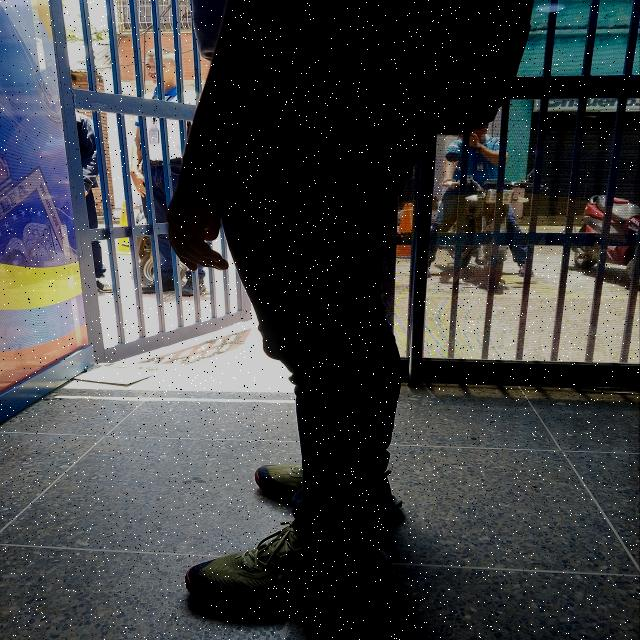pantalon_oscuro: (220, 53, 430, 554)
